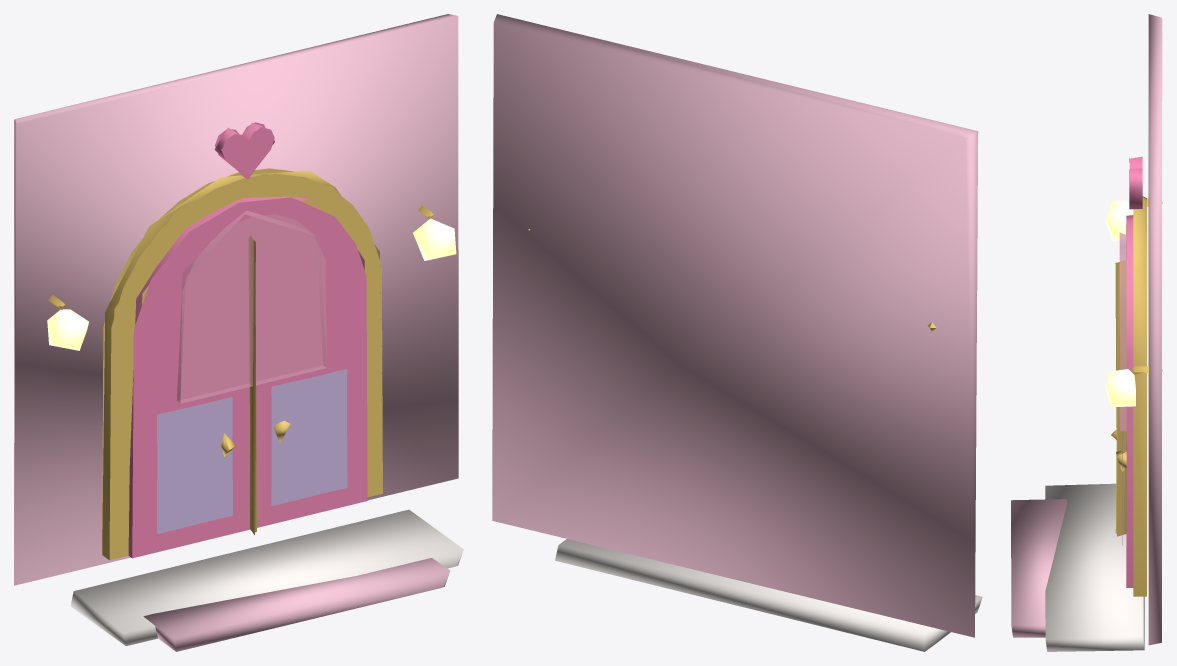
File: lod_facade_door.glb
The picture shows the model from 3 angles, left to right: view 1: azimuth 30°, elevation 25°; view 2: azimuth 150°, elevation 25°; view 3: azimuth 270°, elevation 25°; orthographic projection. The views are drawn at different scales.
Visible parts, largest first — view 1: facade_door; view 2: facade_door; view 3: facade_door.
Part boxes in pixels (x1=…): facade_door: x1=14, y1=14, x2=463, y2=651; facade_door: x1=492, y1=14, x2=982, y2=651; facade_door: x1=1011, y1=14, x2=1162, y2=651.
Bounding box in the file's own units: 3.47 × 3.73 × 1.11.
